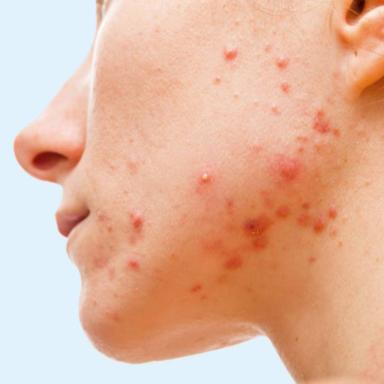acne: (245, 216, 270, 234), (279, 160, 299, 180), (313, 111, 330, 133), (224, 255, 242, 269), (224, 45, 238, 60), (313, 217, 325, 232), (277, 206, 290, 217), (276, 56, 289, 67), (297, 214, 310, 225), (133, 216, 143, 228), (329, 205, 338, 218), (128, 259, 139, 269), (201, 172, 210, 183), (191, 284, 202, 292), (226, 195, 233, 207)
